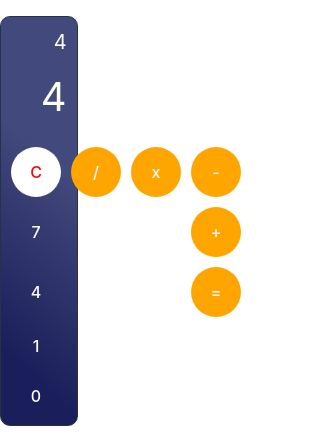
Calculator › click another number when there is a solution in the display
The image size is (320, 443).
# Click button with number 5
Click the button "5" at coordinates (96, 292), box [72,267,120,317]
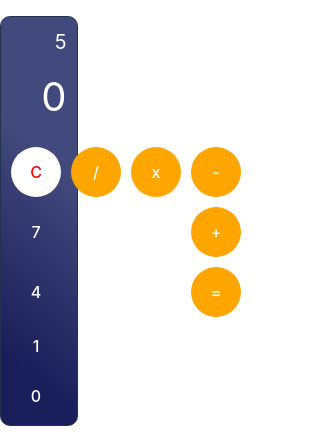
# Click button with operator -
Click the button "-" at coordinates (216, 172), box [191,147,241,197]
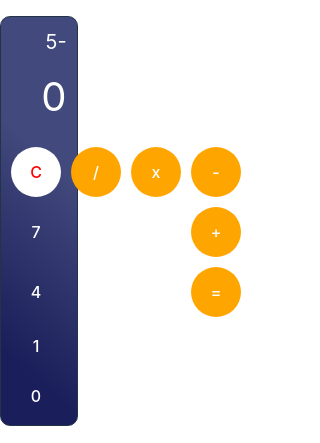
# Click button with number 8
Click the button "8" at coordinates (96, 232), box [72,207,120,257]
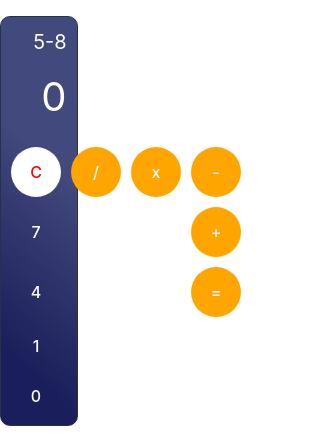
# Click button equal
Click the button "=" at coordinates (216, 292), box [191,267,241,317]
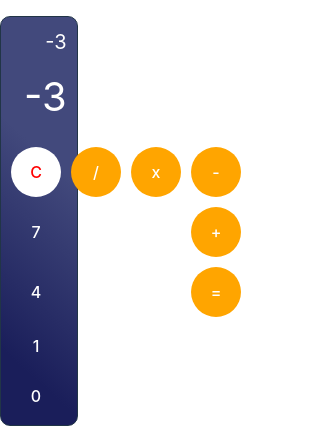
Expected: the text with test id "calculator-history" reads "-3", [45,30,67,54]
